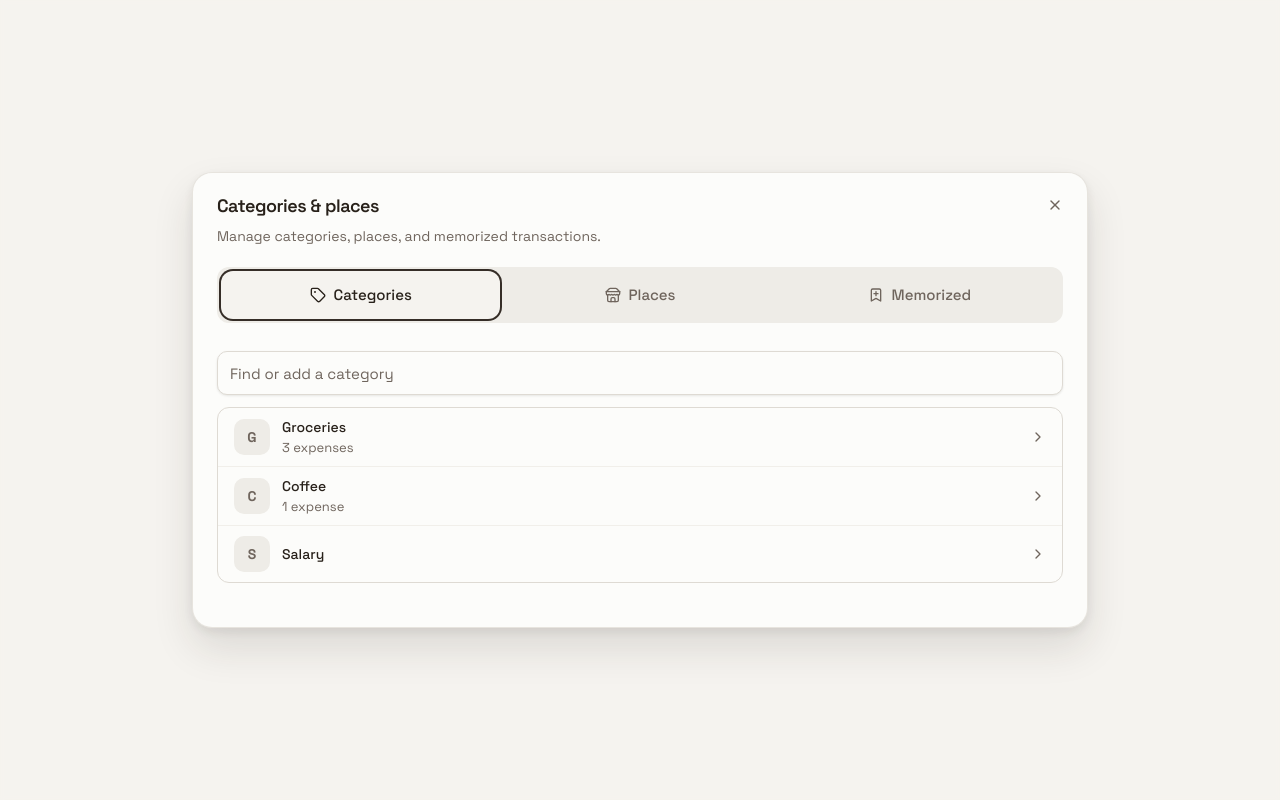
categories and places manager (MOB-R91 D) › a row shows N expenses (none for income); its screen has Name, Used in, Merge and Delete, and no rename
The image size is (1280, 800).
Expected: the button "C Coffee 1 expense" is shown, [218, 467, 1062, 526]
Expected: the text "Salary" does not show "expense"
Click the button "G Groceries 3 expenses" at (252, 437), box [218, 408, 1062, 467]
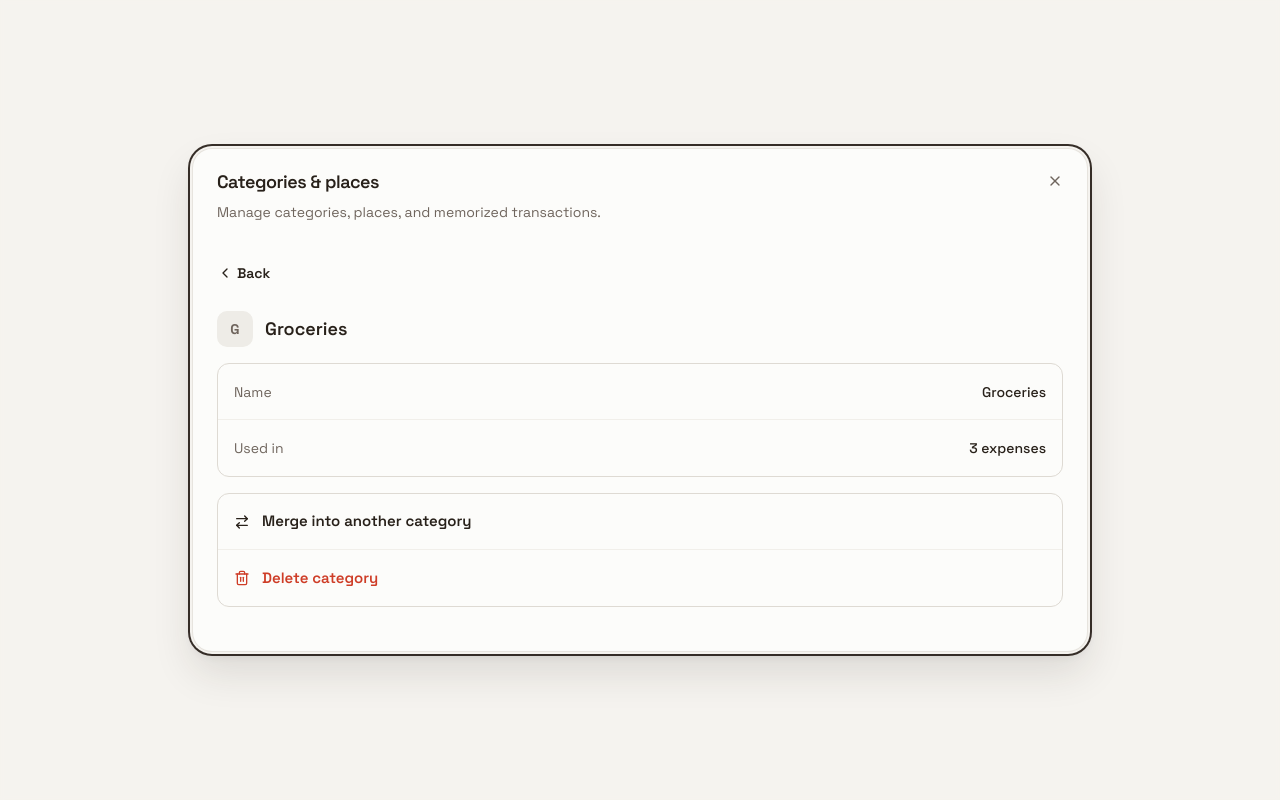
Expected: the heading "Groceries" is shown, [265, 316, 347, 342]
Expected: the text "Used in" is shown, [234, 437, 284, 459]
Expected: the button "Merge into another category" is shown, [218, 494, 1062, 550]
